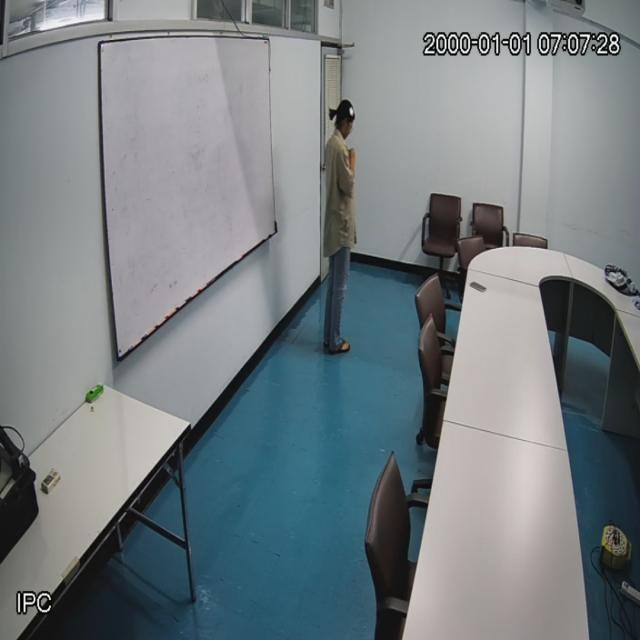normal: (318, 91, 362, 357)
